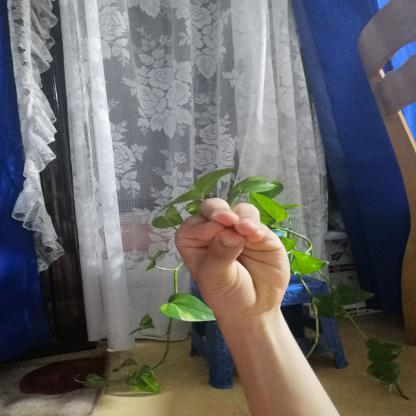HA: (155, 188, 320, 334)
